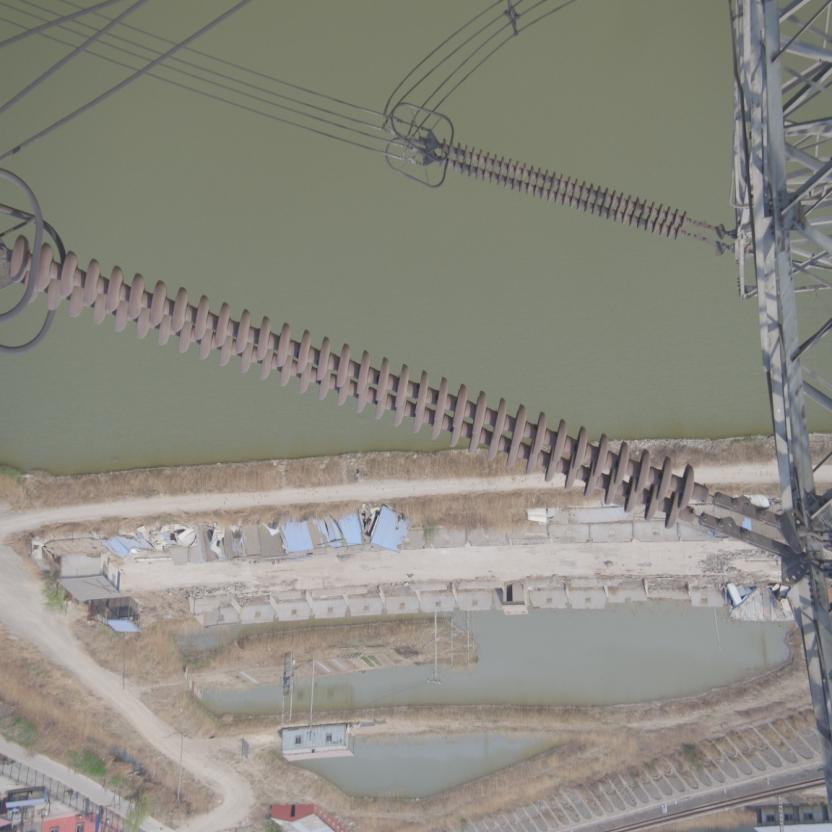insulator: (1, 229, 741, 538), (433, 136, 714, 245)
